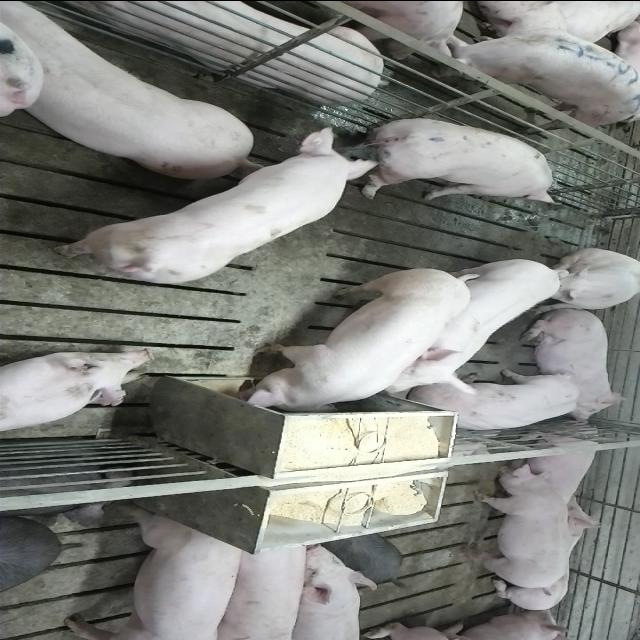Feeding: (236, 271, 470, 421)
Sitting: (534, 247, 640, 311)
Standing: (42, 130, 374, 290), (5, 5, 263, 182), (376, 252, 566, 390), (58, 506, 250, 638), (423, 24, 640, 124), (340, 116, 562, 205), (461, 458, 572, 586), (210, 538, 308, 638), (287, 540, 373, 640)
Sternal_lying: (0, 348, 154, 432), (493, 498, 612, 606), (516, 312, 628, 422), (519, 428, 605, 502)
